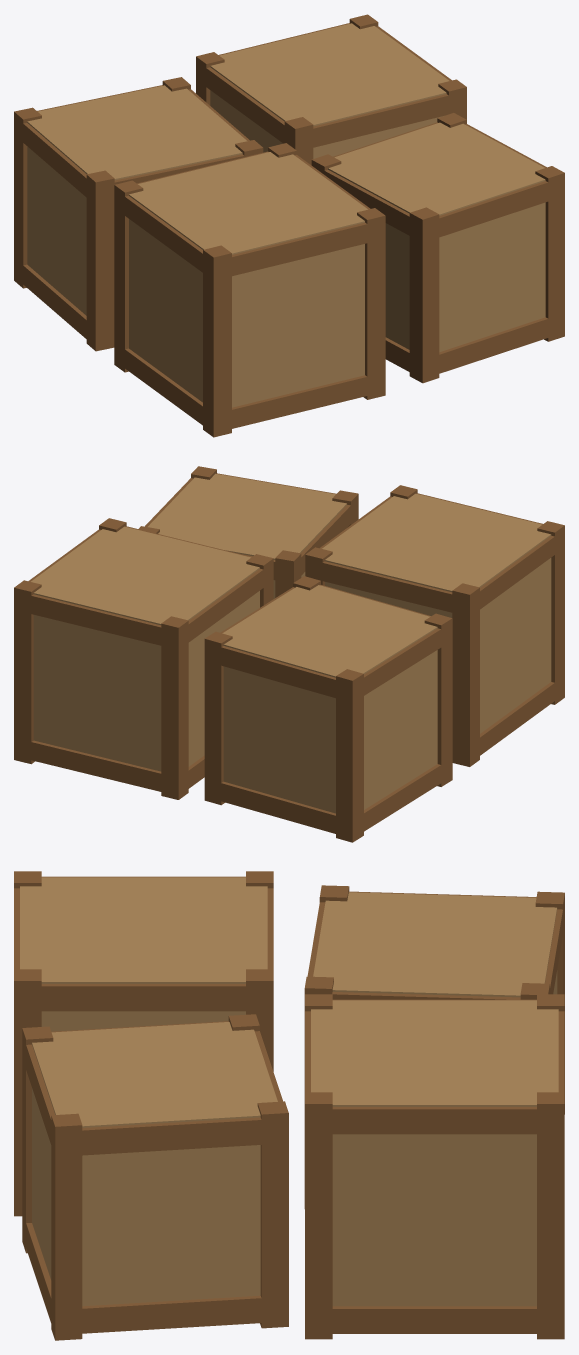
The model's file is pile_crates_2.glb.
3 views of the same model, one above another, from view 1: azimuth 30°, elevation 25°; view 2: azimuth 150°, elevation 25°; view 3: azimuth 270°, elevation 25° (orthographic). The views are drawn at different scales.
Visible parts, largest first — view 1: pile_crates_2; view 2: pile_crates_2; view 3: pile_crates_2.
Part boxes in pixels (x1,y1,x2,y2): pile_crates_2: [14, 14, 564, 437]; pile_crates_2: [14, 466, 564, 842]; pile_crates_2: [14, 871, 564, 1340].
Size of the model in its own units: 1.41 by 0.66 by 1.4.
